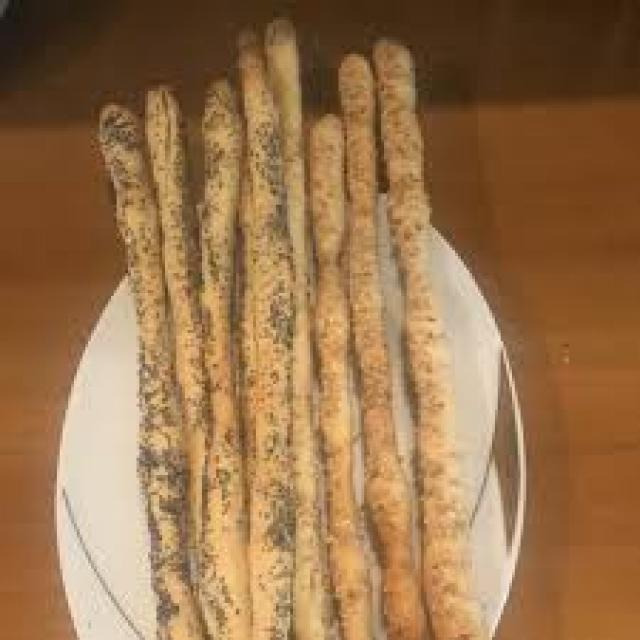Grissini: (103, 20, 484, 637)
